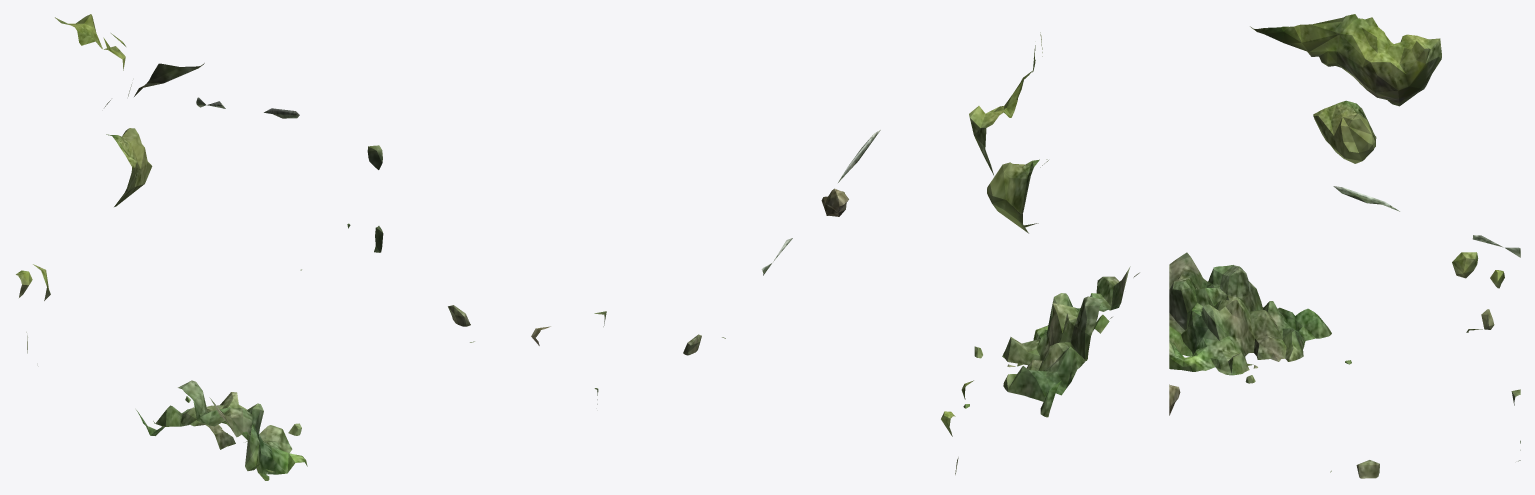
3 views of the same model, side by side, from view 1: azimuth 30°, elevation 25°; view 2: azimuth 150°, elevation 25°; view 3: azimuth 270°, elevation 25° (orthographic). The views are drawn at different scales.
Size of the model in its own units: 11.8 by 11.8 by 11.8.
Materials: 1 (1 with a texture image).
